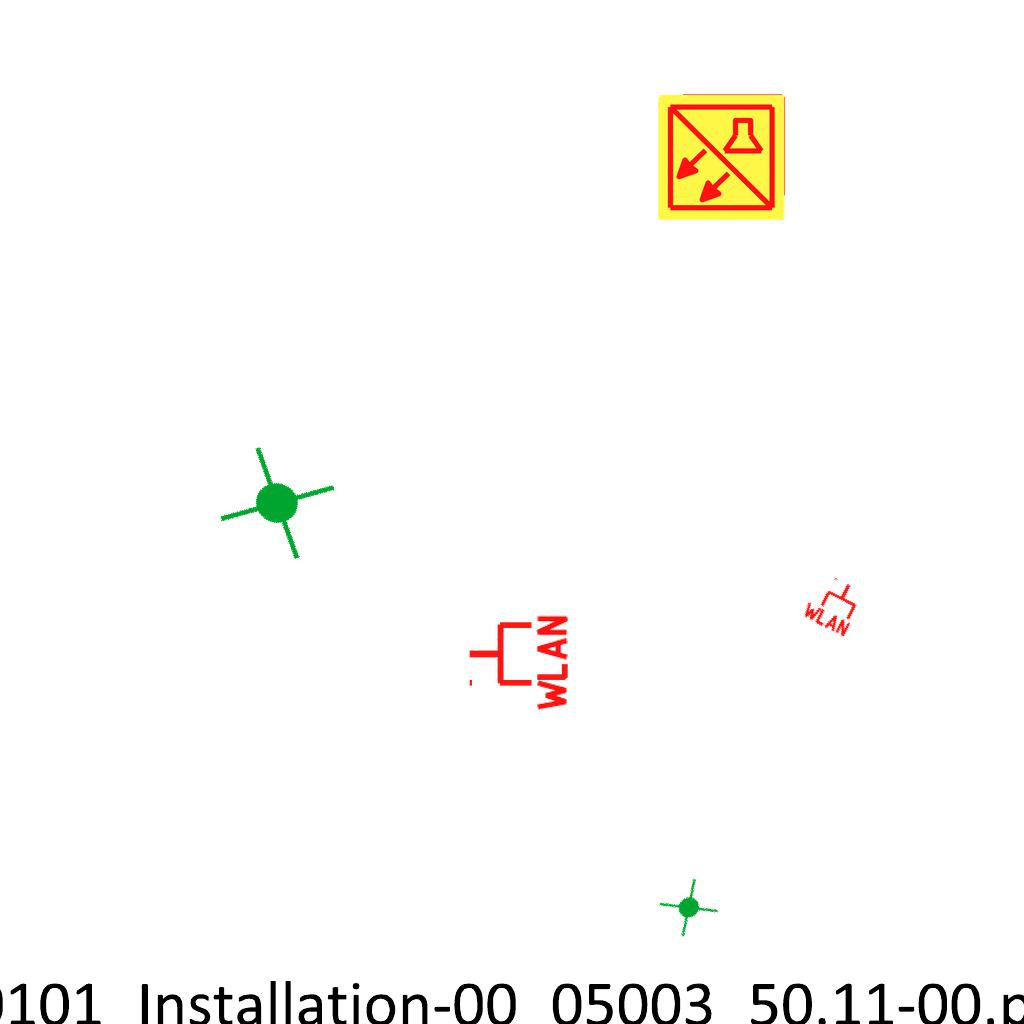Notlichtbaustein_in_Allgemeinbeleuchtug_engebaut_Einbau_(1UG_und_2UG_Aufbauvaria: (208, 435, 345, 573), (653, 871, 724, 943)
OKW_Multisensormelder_(Kombination_optischer_Rauch-Kahlenmonoxid_Waerme-Melder): (655, 91, 787, 223)
WLAN: (465, 611, 570, 715), (799, 569, 869, 639)
